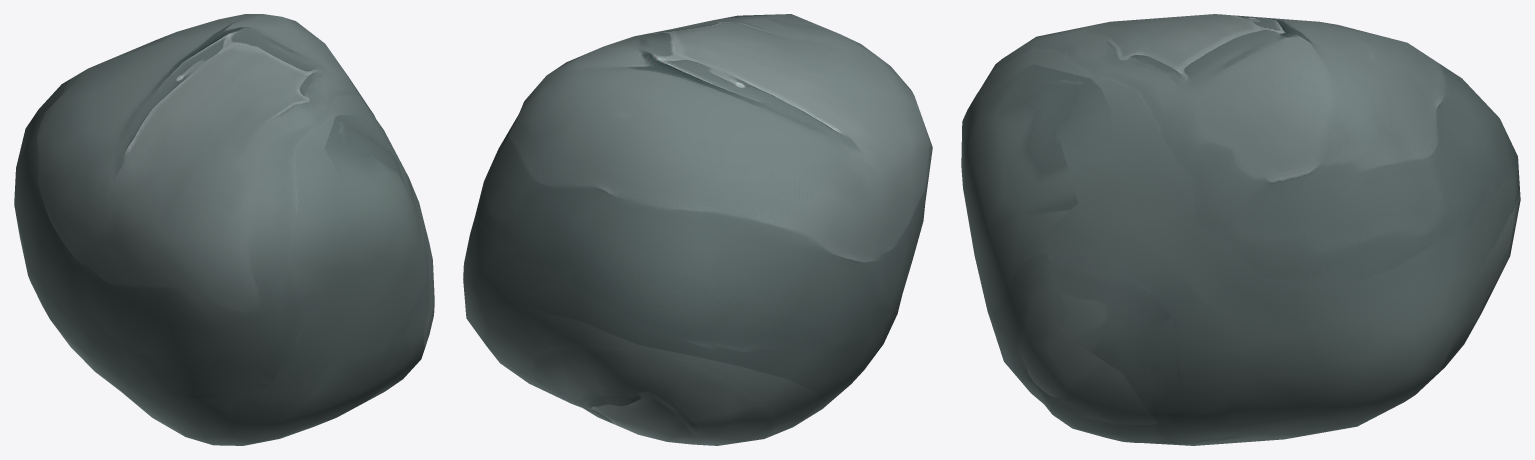
Rendered from Stone.FBX.
The picture shows the model from 3 angles, left to right: view 1: azimuth 30°, elevation 25°; view 2: azimuth 150°, elevation 25°; view 3: azimuth 270°, elevation 25°; orthographic projection. The views are drawn at different scales.
Parts seen in each view (by area): view 1: ForestGuardianStone; view 2: ForestGuardianStone; view 3: ForestGuardianStone.
Part boxes in pixels (x1,y1,x2,y2): ForestGuardianStone: (14,14,434,445); ForestGuardianStone: (463,14,932,445); ForestGuardianStone: (961,14,1520,445).
Size of the model in its own units: 40.53 by 41 by 50.59.
